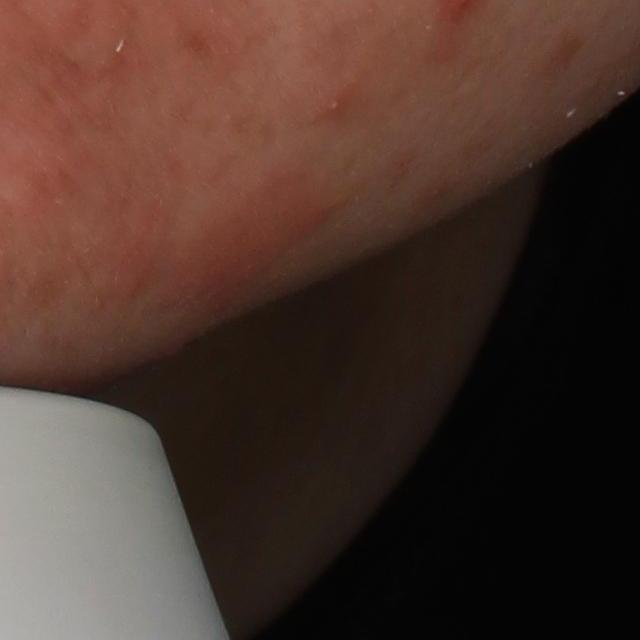papule: (319, 88, 350, 120)
